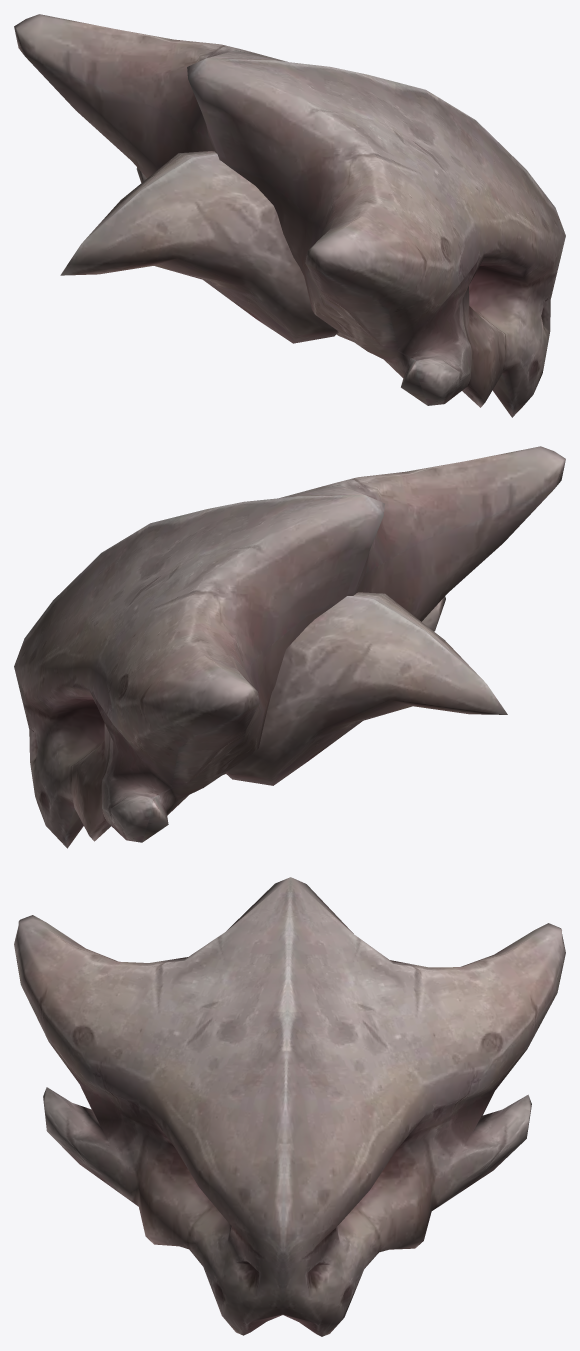
The picture shows the model from 3 angles, top to bottom: view 1: azimuth 30°, elevation 25°; view 2: azimuth 150°, elevation 25°; view 3: azimuth 270°, elevation 25°; orthographic projection. The views are drawn at different scales.
Bounding box in the file's own units: 13.6 × 10.55 × 15.39.
1 material, 1 textured.
